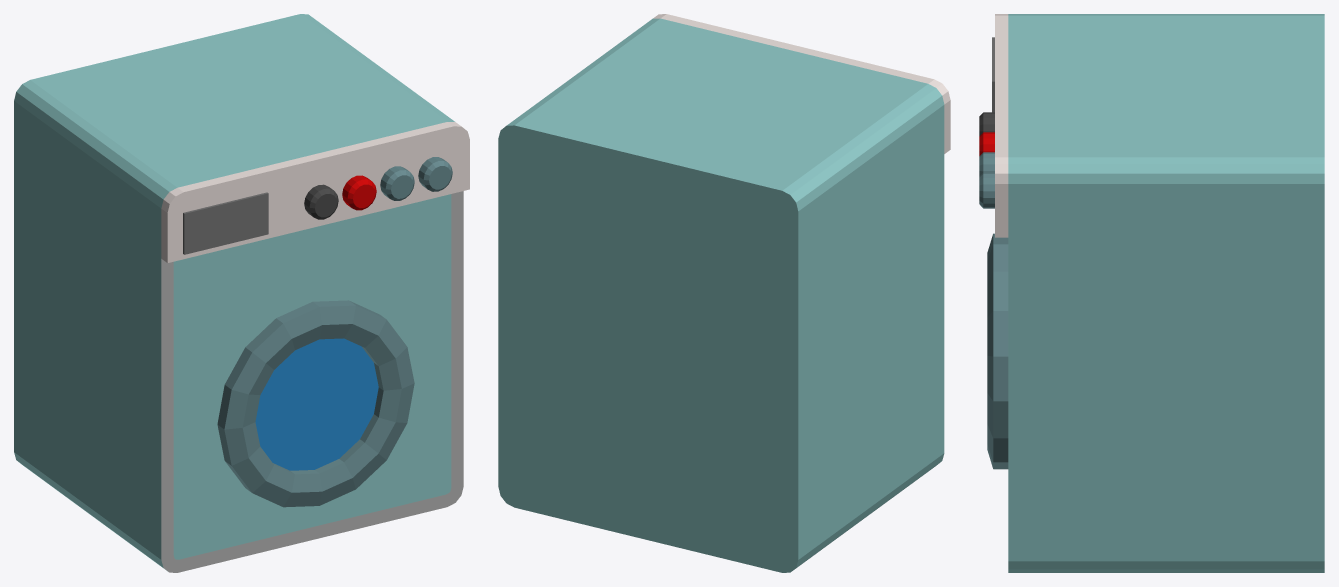
File: Prop_Washer_01.fbx
3 renders of one model, left to right at view 1: azimuth 30°, elevation 25°; view 2: azimuth 150°, elevation 25°; view 3: azimuth 270°, elevation 25°, orthographic. The views are drawn at different scales.
Visible parts, largest first — view 1: Prop_Washer_01; view 2: Prop_Washer_01; view 3: Prop_Washer_01.
Boxes of the visible parts, left/top/right/bottom form: Prop_Washer_01: left=14, top=14, right=469, bottom=572; Prop_Washer_01: left=498, top=14, right=950, bottom=572; Prop_Washer_01: left=979, top=14, right=1324, bottom=572.
Bounding box in the file's own units: 82.95 × 101 × 76.42.
